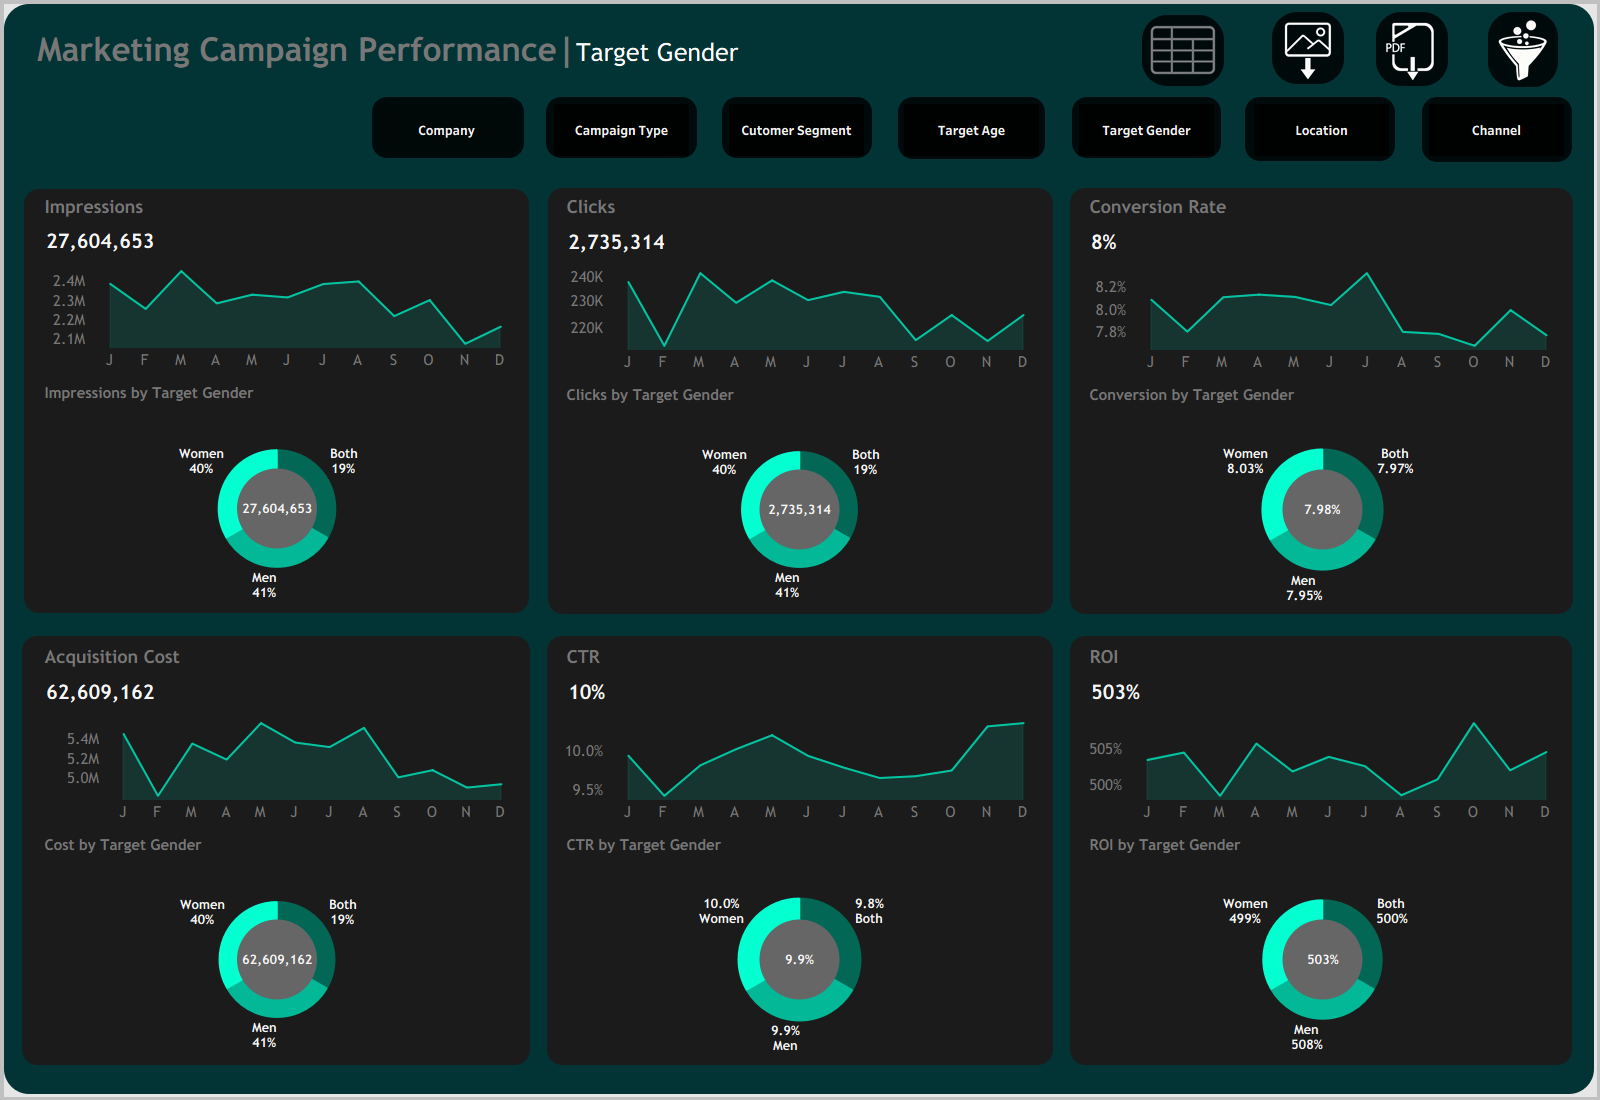

This screenshot's page, from the dashboard's own definition file:
{"tool":"tableau","page":{"name":"Target Gender Page","canvas":[1600,1100],"ordinal":6},"visuals":[{"type":"worksheet","title":"Background Dashboard","mark":"Automatic","box":[0,0,1600,1100]},{"type":"blank","box":[0,0,1600,15]},{"type":"filter","title":"BAN Impressions","param":"[federated.1mnywug06xvtuc16vjv8v0i6xip0].[none:Channel_Used:nk]","box":[772,12,140.6,60]},{"type":"filter","title":"BAN Impressions","param":"[federated.1mnywug06xvtuc16vjv8v0i6xip0].[none:Company:nk]","box":[912.6,12,140.6,60]},{"type":"filter","title":"BAN Impressions","param":"[federated.1mnywug06xvtuc16vjv8v0i6xip0].[none:Calculation_1166370128986117:nk]","box":[1053.2,12,140.6,60]},{"type":"filter","title":"BAN Impressions","param":"[federated.1mnywug06xvtuc16vjv8v0i6xip0].[none:Target_Age:nk]","box":[1193.8,12,140.6,60]},{"type":"filter","title":"BAN Impressions","param":"[federated.1mnywug06xvtuc16vjv8v0i6xip0].[none:Target_Gender:nk]","box":[1334.4,12,140.6,60]},{"type":"text","box":[0,15,778,70]},{"type":"blank","box":[778,15,366,70]},{"type":"dashboard-object","box":[1144,15,77,70]},{"type":"blank","box":[1221,15,50,70]},{"type":"dashboard-object","box":[1271,15,73,70]},{"type":"blank","box":[1344,15,30,70]},{"type":"dashboard-object","box":[1374,15,70,70]},{"type":"blank","box":[1444,15,43,70]},{"type":"dashboard-object","box":[1487,15,70,70]},{"type":"blank","box":[1557,15,43,70]},{"type":"blank","box":[0,85,1600,15]},{"type":"blank","box":[0,90,4,207]},{"type":"dashboard-object","box":[4,90,39,35]},{"type":"text","box":[43,90,38,35]},{"type":"blank","box":[81,90,5,207]},{"type":"dashboard-object","box":[86,90,31,33]},{"type":"text","box":[117,90,161,33]},{"type":"blank","box":[278,90,5,207]},{"type":"dashboard-object","box":[283,90,30,33]},{"type":"text","box":[313,90,155,33]},{"type":"blank","box":[468,90,5,207]},{"type":"dashboard-object","box":[473,90,31,33]},{"type":"text","box":[504,90,119,33]},{"type":"blank","box":[623,90,5,207]},{"type":"dashboard-object","box":[628,90,31,33]},{"type":"text","box":[659.1,90,158,33]},{"type":"blank","box":[817.1,90,5,207]},{"type":"dashboard-object","box":[822.1,90,30,30]},{"type":"text","box":[852.1,90,144,30]},{"type":"blank","box":[996.1,90,5,207]},{"type":"dashboard-object","box":[1001.1,90,30,30]},{"type":"text","box":[1031.1,90,169,30]},{"type":"blank","box":[1200.1,90,5,207]},{"type":"dashboard-object","box":[1205.1,90,30,30]},{"type":"text","box":[1235.1,90,154,30]},{"type":"blank","box":[1389.1,90,5,207]},{"type":"dashboard-object","box":[1394.1,90,30,30]},{"type":"text","box":[1424.1,90,142,30]},{"type":"blank","box":[1566.1,90,30,207]},{"type":"blank","box":[0,100,343,60]},{"type":"blank","box":[343,100,32,60]},{"type":"dashboard-object","box":[375,100,143,60]},{"type":"blank","box":[518,100,32,60]},{"type":"dashboard-object","box":[550,100,143,60]},{"type":"blank","box":[693,100,32,60]},{"type":"dashboard-object","box":[725,100,143,60]},{"type":"blank","box":[868,100,32,60]},{"type":"dashboard-object","box":[900,100,143,60]},{"type":"blank","box":[1043,100,32,60]},{"type":"dashboard-object","box":[1075,100,143,60]},{"type":"blank","box":[1218,100,32,60]},{"type":"dashboard-object","box":[1250,100,143,60]},{"type":"blank","box":[1393,100,32,60]},{"type":"dashboard-object","box":[1425,100,143,60]},{"type":"blank","box":[1568,100,32,60]},{"type":"filter","title":"Detailed_Table","param":"[federated.1mnywug06xvtuc16vjv8v0i6xip0].[none:Channel_Used:nk]","box":[822.1,120,174,58]},{"type":"filter","title":"Detailed_Table","param":"[federated.1mnywug06xvtuc16vjv8v0i6xip0].[usr:Calculation_1851639007813637:qk]","box":[1001.1,120,199,51]},{"type":"filter","title":"Detailed_Table","param":"[federated.1mnywug06xvtuc16vjv8v0i6xip0].[usr:Calculation_1851639006334976:qk]","box":[1205.1,120,184,33]},{"type":"filter","title":"Detailed_Table","param":"[federated.1mnywug06xvtuc16vjv8v0i6xip0].[usr:Calculation_1851639007145986:qk]","box":[1394.1,120,172,51]},{"type":"filter","title":"Detailed_Table","param":"[federated.1mnywug06xvtuc16vjv8v0i6xip0].[none:Company:nk]","box":[86,123,192,58]},{"type":"filter","title":"Detailed_Table","param":"[federated.1mnywug06xvtuc16vjv8v0i6xip0].[none:Customer_Segment:nk]","box":[283,123,185,58]},{"type":"filter","title":"Detailed_Table","param":"[federated.1mnywug06xvtuc16vjv8v0i6xip0].[tdy:Date:qk]","box":[473,123,150,68]},{"type":"filter","title":"Detailed_Table","param":"[federated.1mnywug06xvtuc16vjv8v0i6xip0].[none:Calculation_1166370128986117:nk]","box":[628,123,189,58]},{"type":"filter","title":"Detailed_Table","param":"[federated.1mnywug06xvtuc16vjv8v0i6xip0].[none:Campaign_ID (Dim!Campaign):nk]","box":[4,125,77,35]},{"type":"blank","box":[0,160,32,932]},{"type":"blank","box":[32,160,490,32]},{"type":"blank","box":[522,160,32,932]},{"type":"blank","box":[554.1,160,490.9,32]},{"type":"blank","box":[1045,160,32,932]},{"type":"blank","box":[1077,160,490.9,32]},{"type":"blank","box":[1567.9,160,32,932]},{"type":"filter","title":"Detailed_Table","param":"[federated.1mnywug06xvtuc16vjv8v0i6xip0].[none:Campaign_Type:nk]","box":[86,181,192,58]},{"type":"filter","title":"Detailed_Table","param":"[federated.1mnywug06xvtuc16vjv8v0i6xip0].[none:Target_Age:nk]","box":[283,181,185,58]},{"type":"filter","title":"Detailed_Table","param":"[federated.1mnywug06xvtuc16vjv8v0i6xip0].[none:Location:nk]","box":[628,181,189,58]},{"type":"filter","title":"Detailed_Table","param":"[federated.1mnywug06xvtuc16vjv8v0i6xip0].[none:Weekday:nk]","box":[473,191,150,58]},{"type":"text","box":[32,192,490,29]},{"type":"text","box":[554.1,192,490.9,29]},{"type":"text","box":[1077,192,490.9,29]},{"type":"worksheet","title":"BAN Impressions","mark":"Automatic","box":[32,221,490,41]},{"type":"worksheet","title":"BAN Clicks","mark":"Automatic","box":[554.1,221,490.9,43]},{"type":"worksheet","title":"BAN Conversion","mark":"Automatic","box":[1077,221,490.9,43]},{"type":"filter","title":"Detailed_Table","param":"[federated.1mnywug06xvtuc16vjv8v0i6xip0].[none:Target_Gender:nk]","box":[283,239,185,58]},{"type":"worksheet","title":"Impressions by Year","mark":"Line","rows":["Calculation_1851639006334976","Calculation_1851639006334976"],"cols":["Date"],"box":[32,262,490,112]},{"type":"worksheet","title":"Clicks by Year","mark":"Line","rows":["Calculation_1851639006855169","Calculation_1851639006855169"],"cols":["Date"],"box":[554.1,264,490.9,112]},{"type":"worksheet","title":"Conversion by Year","mark":"Line","rows":["Calculation_1851639007629316","Calculation_1851639007629316"],"cols":["Date"],"box":[1077,264,490.9,112]},{"type":"worksheet","title":"Detailed_Table","mark":"Shape","rows":["Campaign_ID (Dim!Campaign)"],"cols":["Calculation_2238670781300739","Calculation_2238670781300739","Calculation_2238670781300739","Calculation_2238670781300739","Calculation_2238670781300739","Calculation_2238670781300739","Calculation_2238670781300739","Calculation_2238670781300739"],"box":[0,297,1600,803]},{"type":"worksheet","title":"Impressions by Target Gender","mark":"Pie","cols":["Calculation_1166370135769095","Calculation_1166370135769095"],"box":[32,374,490,236]},{"type":"worksheet","title":"Clicks by Target Gender","mark":"Pie","cols":["Calculation_1166370135769095","Calculation_1166370135769095"],"box":[554.1,376,490.9,234]},{"type":"worksheet","title":"Conversion by Target Gender","mark":"Pie","cols":["Calculation_1166370135769095","Calculation_1166370135769095"],"box":[1077,376,490.9,234]},{"type":"blank","box":[32,610,490,32]},{"type":"blank","box":[554.1,610,490.9,32]},{"type":"blank","box":[1077,610,490.9,32]},{"type":"text","box":[32,642,490,29]},{"type":"text","box":[554.1,642,490.9,29]},{"type":"text","box":[1077,642,490.9,29]},{"type":"worksheet","title":"BAN Cost","mark":"Automatic","box":[32,671,490,43]},{"type":"worksheet","title":"BAN CTR","mark":"Automatic","box":[554.1,671,490.9,43]},{"type":"worksheet","title":"BAN ROI","mark":"Automatic","box":[1077,671,490.9,43]},{"type":"worksheet","title":"Cost by Year","mark":"Line","rows":["Calculation_1851639007813637","Calculation_1851639007813637"],"cols":["Date"],"box":[32,714,490,112]},{"type":"worksheet","title":"CTR by Year","mark":"Line","rows":["Calculation_1851639007145986","Calculation_1851639007145986"],"cols":["Date"],"box":[554.1,714,490.9,112]},{"type":"worksheet","title":"ROI by Year","mark":"Line","rows":["Calculation_1851639007985670","Calculation_1851639007985670"],"cols":["Date"],"box":[1077,714,490.9,112]},{"type":"worksheet","title":"Cost by Target Gender","mark":"Pie","cols":["Calculation_1166370135769095","Calculation_1166370135769095"],"box":[32,826,490,234]},{"type":"worksheet","title":"CTR by Target Gender","mark":"Pie","cols":["Calculation_1166370135769095","Calculation_1166370135769095"],"box":[554.1,826,490.9,234]},{"type":"worksheet","title":"ROI by Target Gender","mark":"Pie","cols":["Calculation_1166370135769095","Calculation_1166370135769095"],"box":[1077,826,490.9,234]},{"type":"blank","box":[32,1060,490,32]},{"type":"blank","box":[554.1,1060,490.9,32]},{"type":"blank","box":[1077,1060,490.9,32]}]}

Visuals, with their boxes in screenshot pixels (x1, y1, x2, y2), scaled from the page's 1600x1100 canvas onto the 1600x1100 screenshot:
"Background Dashboard" worksheet: (0,0,1599,1099)
blank: (0,0,1599,15)
"BAN Impressions" filter: (772,12,913,72)
"BAN Impressions" filter: (913,12,1053,72)
"BAN Impressions" filter: (1053,12,1194,72)
"BAN Impressions" filter: (1194,12,1334,72)
"BAN Impressions" filter: (1334,12,1475,72)
text: (0,15,778,85)
blank: (778,15,1144,85)
dashboard-object: (1144,15,1221,85)
blank: (1221,15,1271,85)
dashboard-object: (1271,15,1344,85)
blank: (1344,15,1374,85)
dashboard-object: (1374,15,1444,85)
blank: (1444,15,1487,85)
dashboard-object: (1487,15,1557,85)
blank: (1557,15,1599,85)
blank: (0,85,1599,100)
blank: (0,90,4,297)
dashboard-object: (4,90,43,125)
text: (43,90,81,125)
blank: (81,90,86,297)
dashboard-object: (86,90,117,123)
text: (117,90,278,123)
blank: (278,90,283,297)
dashboard-object: (283,90,313,123)
text: (313,90,468,123)
blank: (468,90,473,297)
dashboard-object: (473,90,504,123)
text: (504,90,623,123)
blank: (623,90,628,297)
dashboard-object: (628,90,659,123)
text: (659,90,817,123)
blank: (817,90,822,297)
dashboard-object: (822,90,852,120)
text: (852,90,996,120)
blank: (996,90,1001,297)
dashboard-object: (1001,90,1031,120)
text: (1031,90,1200,120)
blank: (1200,90,1205,297)
dashboard-object: (1205,90,1235,120)
text: (1235,90,1389,120)
blank: (1389,90,1394,297)
dashboard-object: (1394,90,1424,120)
text: (1424,90,1566,120)
blank: (1566,90,1596,297)
blank: (0,100,343,160)
blank: (343,100,375,160)
dashboard-object: (375,100,518,160)
blank: (518,100,550,160)
dashboard-object: (550,100,693,160)
blank: (693,100,725,160)
dashboard-object: (725,100,868,160)
blank: (868,100,900,160)
dashboard-object: (900,100,1043,160)
blank: (1043,100,1075,160)
dashboard-object: (1075,100,1218,160)
blank: (1218,100,1250,160)
dashboard-object: (1250,100,1393,160)
blank: (1393,100,1425,160)
dashboard-object: (1425,100,1568,160)
blank: (1568,100,1599,160)
"Detailed_Table" filter: (822,120,996,178)
"Detailed_Table" filter: (1001,120,1200,171)
"Detailed_Table" filter: (1205,120,1389,153)
"Detailed_Table" filter: (1394,120,1566,171)
"Detailed_Table" filter: (86,123,278,181)
"Detailed_Table" filter: (283,123,468,181)
"Detailed_Table" filter: (473,123,623,191)
"Detailed_Table" filter: (628,123,817,181)
"Detailed_Table" filter: (4,125,81,160)
blank: (0,160,32,1092)
blank: (32,160,522,192)
blank: (522,160,554,1092)
blank: (554,160,1045,192)
blank: (1045,160,1077,1092)
blank: (1077,160,1568,192)
blank: (1568,160,1599,1092)
"Detailed_Table" filter: (86,181,278,239)
"Detailed_Table" filter: (283,181,468,239)
"Detailed_Table" filter: (628,181,817,239)
"Detailed_Table" filter: (473,191,623,249)
text: (32,192,522,221)
text: (554,192,1045,221)
text: (1077,192,1568,221)
"BAN Impressions" worksheet: (32,221,522,262)
"BAN Clicks" worksheet: (554,221,1045,264)
"BAN Conversion" worksheet: (1077,221,1568,264)
"Detailed_Table" filter: (283,239,468,297)
"Impressions by Year" worksheet (Line marks): (32,262,522,374)
"Clicks by Year" worksheet (Line marks): (554,264,1045,376)
"Conversion by Year" worksheet (Line marks): (1077,264,1568,376)
"Detailed_Table" worksheet (Shape marks): (0,297,1599,1099)
"Impressions by Target Gender" worksheet (Pie marks): (32,374,522,610)
"Clicks by Target Gender" worksheet (Pie marks): (554,376,1045,610)
"Conversion by Target Gender" worksheet (Pie marks): (1077,376,1568,610)
blank: (32,610,522,642)
blank: (554,610,1045,642)
blank: (1077,610,1568,642)
text: (32,642,522,671)
text: (554,642,1045,671)
text: (1077,642,1568,671)
"BAN Cost" worksheet: (32,671,522,714)
"BAN CTR" worksheet: (554,671,1045,714)
"BAN ROI" worksheet: (1077,671,1568,714)
"Cost by Year" worksheet (Line marks): (32,714,522,826)
"CTR by Year" worksheet (Line marks): (554,714,1045,826)
"ROI by Year" worksheet (Line marks): (1077,714,1568,826)
"Cost by Target Gender" worksheet (Pie marks): (32,826,522,1060)
"CTR by Target Gender" worksheet (Pie marks): (554,826,1045,1060)
"ROI by Target Gender" worksheet (Pie marks): (1077,826,1568,1060)
blank: (32,1060,522,1092)
blank: (554,1060,1045,1092)
blank: (1077,1060,1568,1092)
